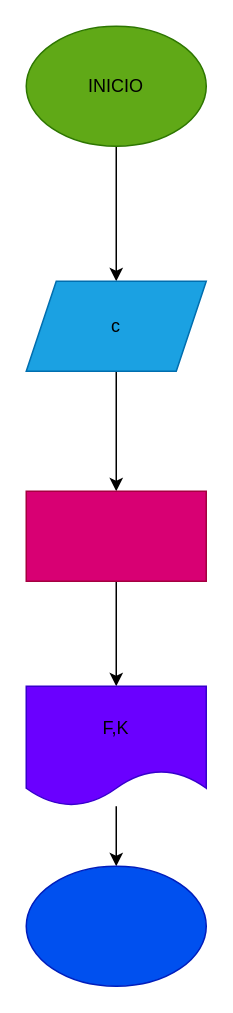
Some shapes in this 233 by 1013 pixel diagram are drawn without their labels. Each missing label, with the centre of its shape:
"F = 1.8C + 32 K = C +273.15" goes at point (115, 535).
"FIN" goes at point (115, 925).
